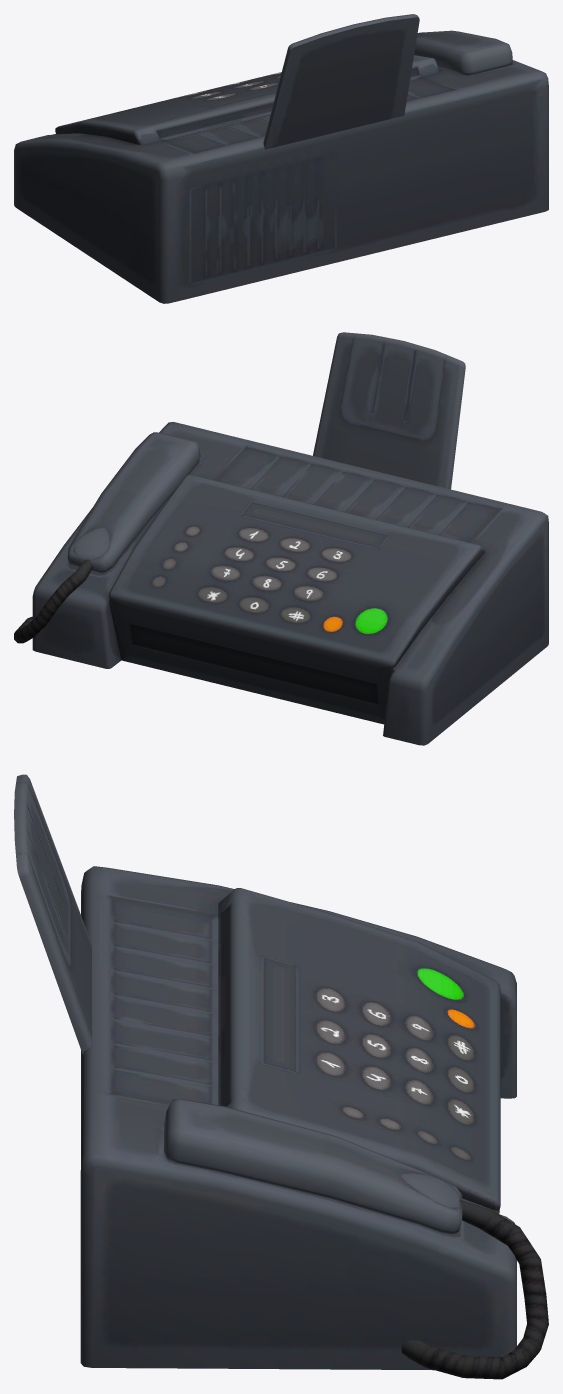
Rendered from OfficeFax01.fbx.
The picture shows the model from 3 angles, top to bottom: view 1: azimuth 30°, elevation 25°; view 2: azimuth 150°, elevation 25°; view 3: azimuth 270°, elevation 25°; orthographic projection. The views are drawn at different scales.
Visible parts, largest first — view 1: OfficeFax01; view 2: OfficeFax01; view 3: OfficeFax01.
Boxes of the visible parts, box(x1,y1,x2,y2) form: OfficeFax01: box(14, 14, 548, 303); OfficeFax01: box(14, 332, 548, 745); OfficeFax01: box(14, 774, 548, 1379).
Bounding box in the file's own units: 0.6462 × 0.3665 × 0.4536.
Materials: 1 (1 with a texture image).
